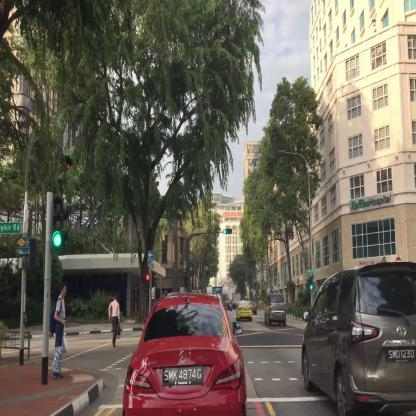green_traffic_light: (52, 197, 63, 246), (310, 276, 312, 289), (224, 230, 232, 233)
